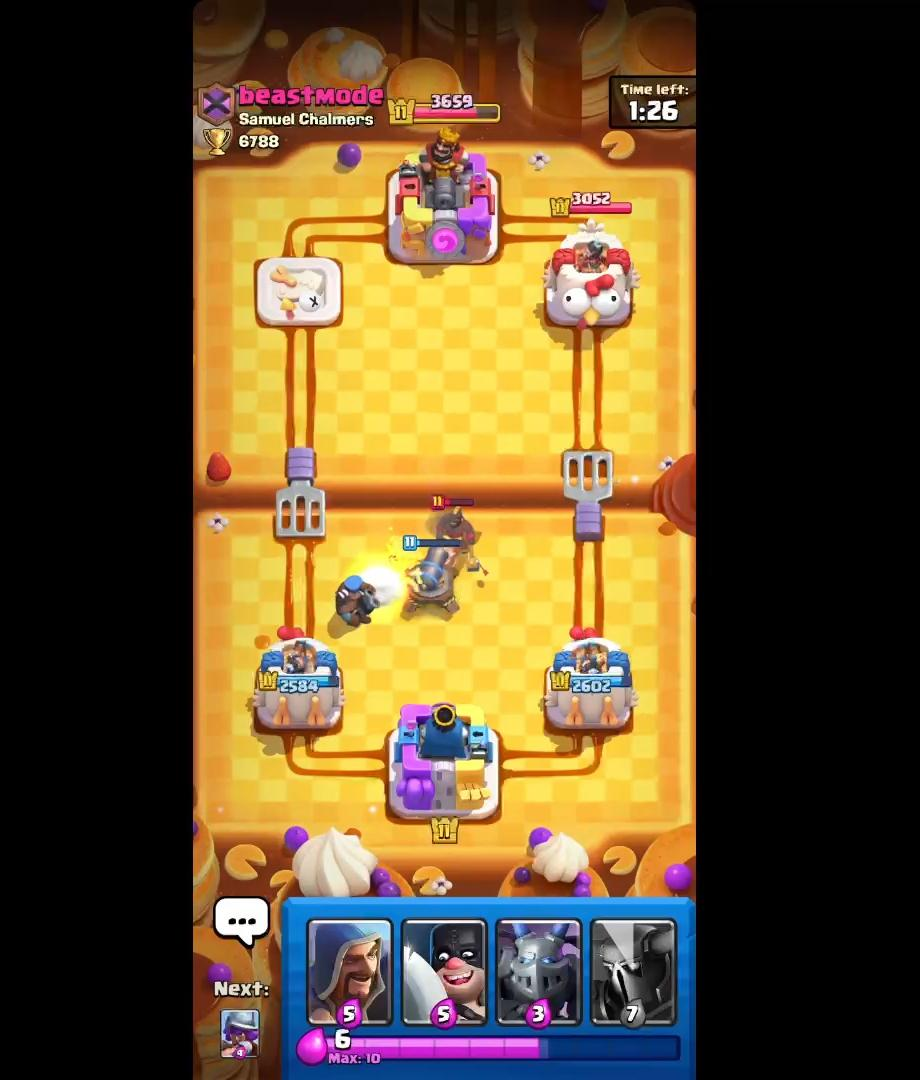Hog Rider: (426, 496, 488, 565)
